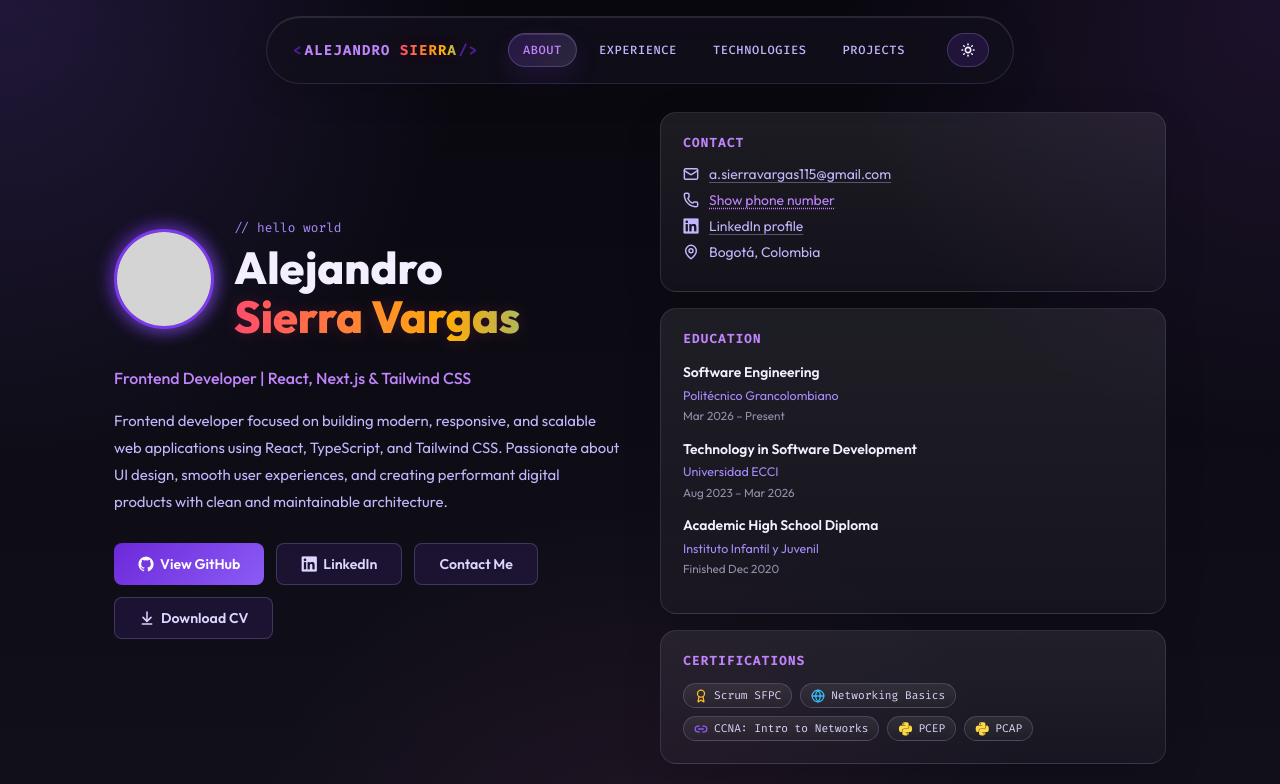
Test: App › keeps the active section in the URL hash
Step 1. Click the button "Experience" → (638, 50), box [585, 34, 691, 66]
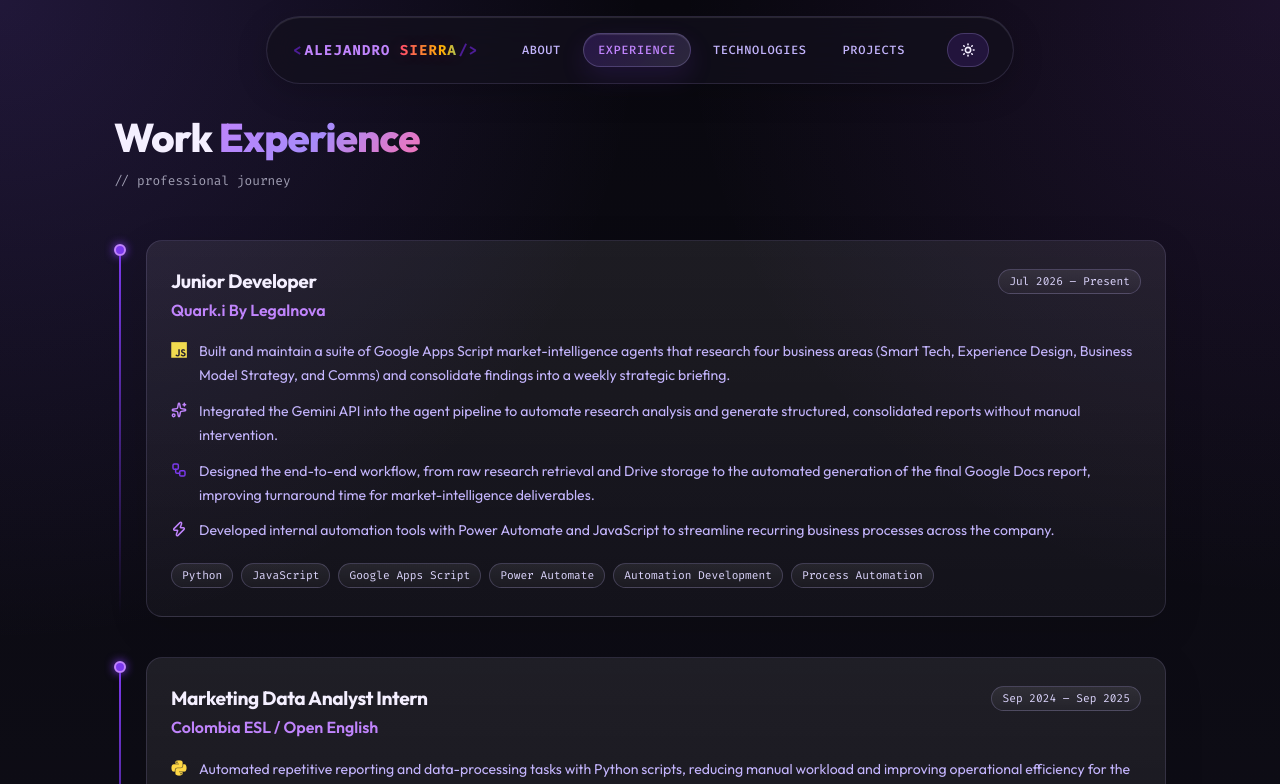
Result: the heading "Work Experience" is shown at [114, 112, 420, 162]
